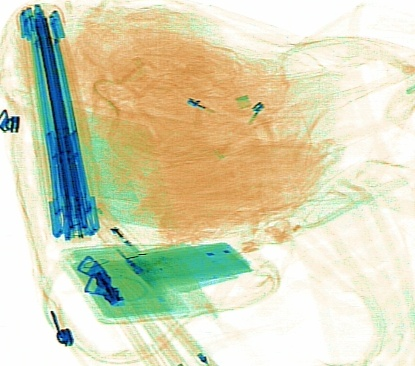lighter: (82, 200, 155, 278)
